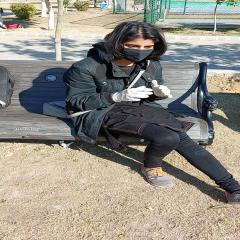gloved: (112, 87, 152, 101), (151, 80, 172, 98)
